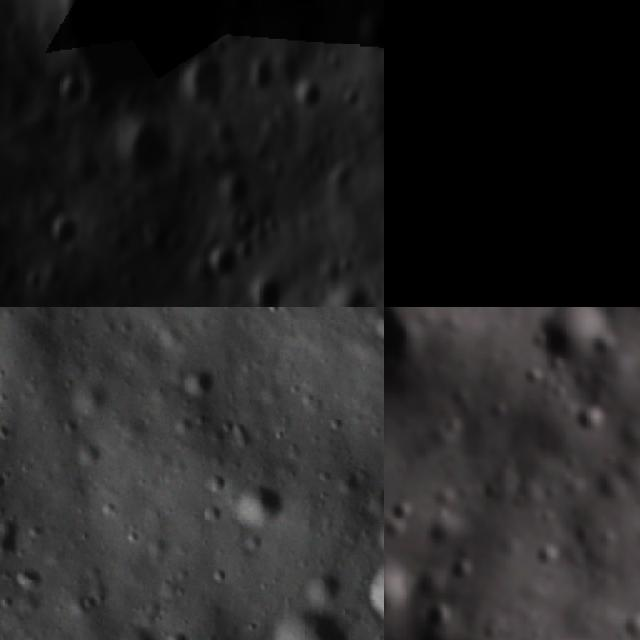crater: (41, 0, 243, 102), (522, 178, 610, 260), (450, 142, 532, 224), (524, 109, 605, 188), (112, 118, 178, 184), (384, 307, 430, 395), (264, 599, 361, 640), (535, 307, 612, 357), (227, 475, 288, 532), (181, 54, 238, 114), (196, 234, 238, 290), (0, 0, 17, 138), (448, 264, 496, 307), (175, 353, 218, 400), (244, 272, 298, 307), (605, 103, 640, 157), (360, 549, 384, 627), (384, 559, 416, 617), (292, 69, 330, 116), (558, 403, 612, 435), (51, 76, 91, 116), (48, 213, 82, 259), (384, 85, 417, 132), (218, 171, 255, 211), (402, 249, 442, 286), (490, 32, 527, 71), (351, 10, 384, 50), (490, 0, 538, 26), (535, 538, 569, 574), (248, 56, 279, 94), (0, 506, 23, 557), (472, 220, 502, 252), (448, 553, 480, 582), (361, 509, 384, 547), (364, 307, 384, 349), (389, 497, 413, 526), (158, 624, 192, 640), (556, 0, 593, 10), (384, 224, 392, 261)
